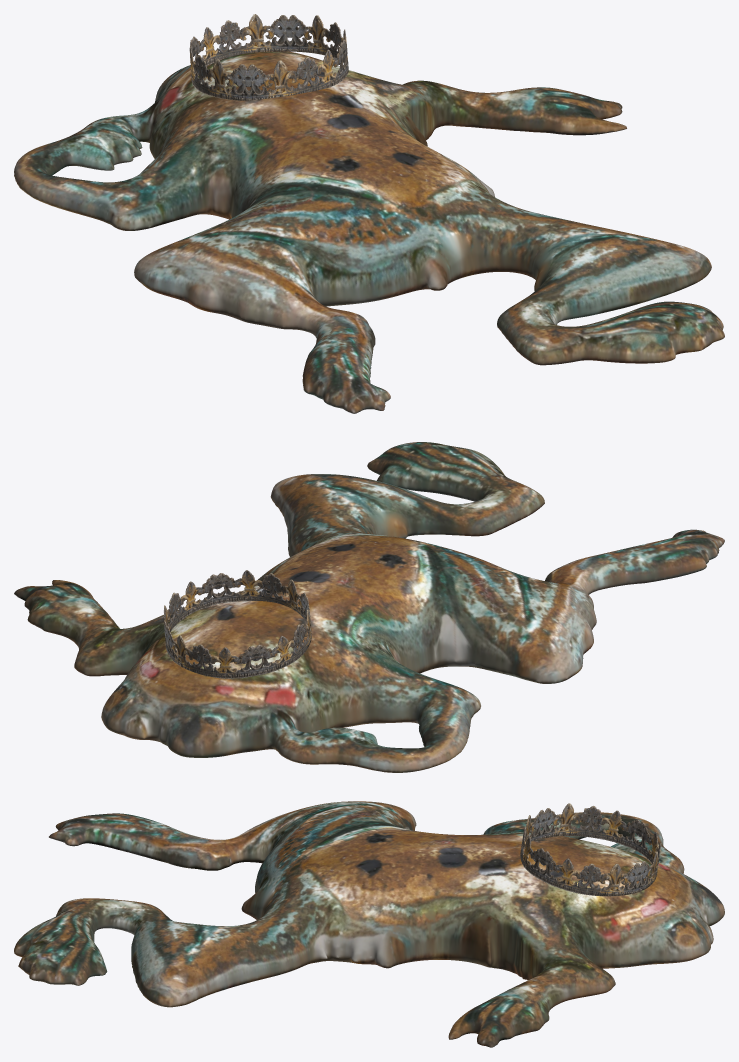
Rendered from Froschkoenig_v3.glb.
3 renders of one model, top to bottom at view 1: azimuth 30°, elevation 25°; view 2: azimuth 150°, elevation 25°; view 3: azimuth 270°, elevation 25°, orthographic. The views are drawn at different scales.
Parts seen in each view (by area): view 1: Frosch, Krone; view 2: Frosch, Krone; view 3: Frosch, Krone.
Boxes of the visible parts, bbox=[...] form: Frosch: bbox=[14, 51, 724, 413]; Krone: bbox=[189, 14, 348, 100]; Frosch: bbox=[14, 442, 724, 772]; Krone: bbox=[164, 570, 311, 678]; Frosch: bbox=[14, 801, 724, 1047]; Krone: bbox=[520, 803, 661, 896].
Size of the model in its own units: 0.0347 by 0.00804 by 0.045.
2 materials, 2 textured.
